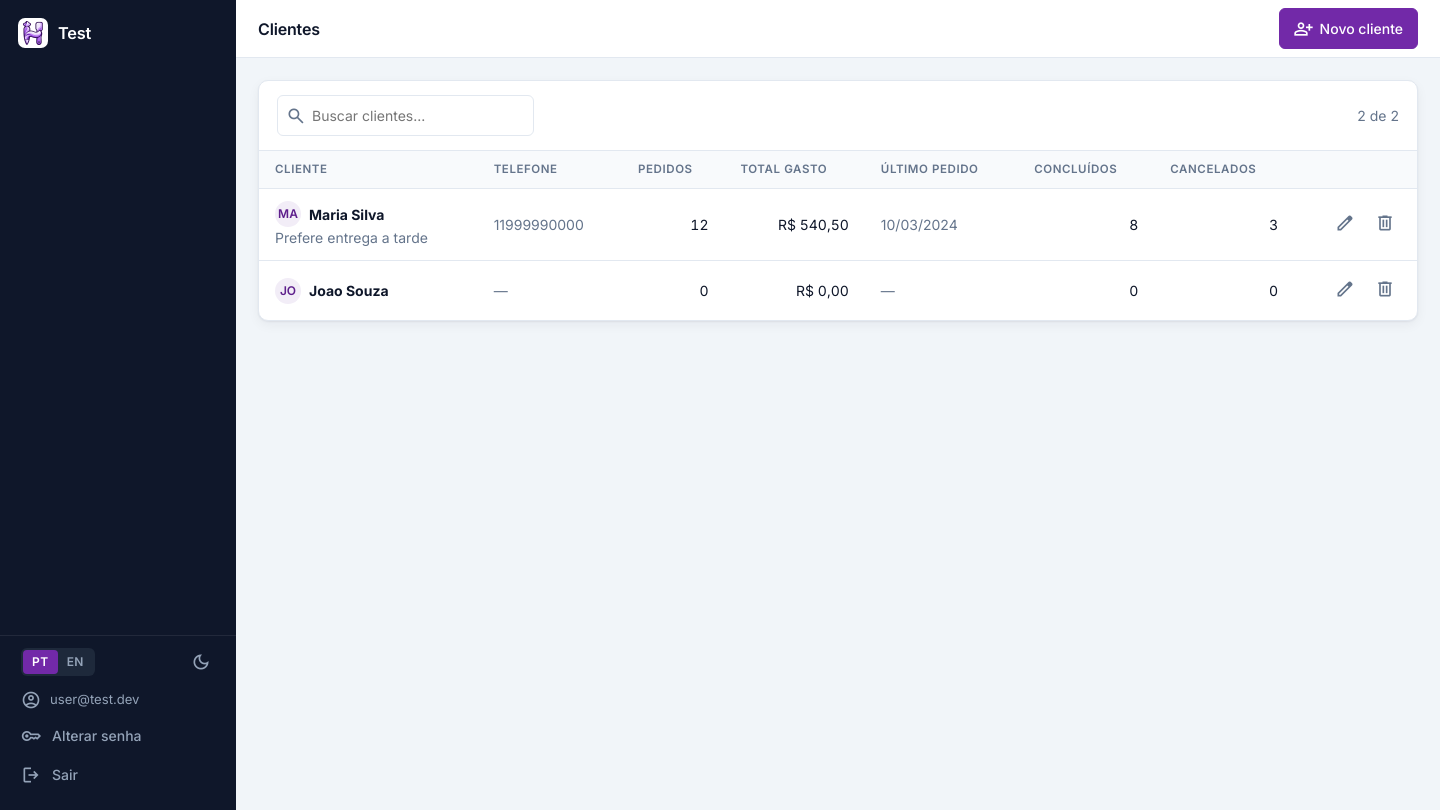
Customers › filtra por nome ou telefone
In the search field with placeholder "Buscar clientes...": [406, 116] box [277,95,534,136], type "999990000"
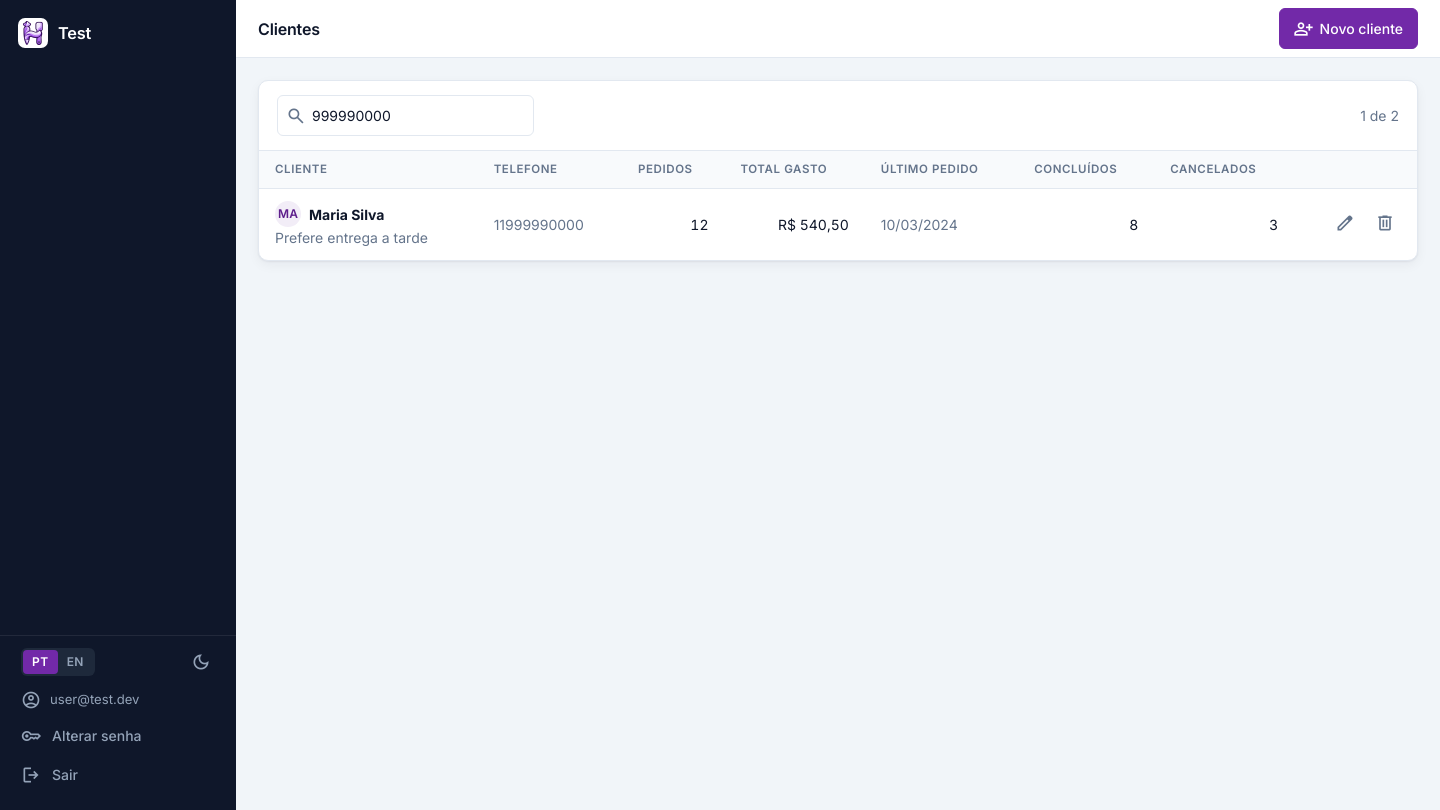
expect the row that starts with "Maria Silva" is shown: met, box [309,206,384,223]
expect the text "1 de 2" is shown: met, box [1360,105,1399,126]
